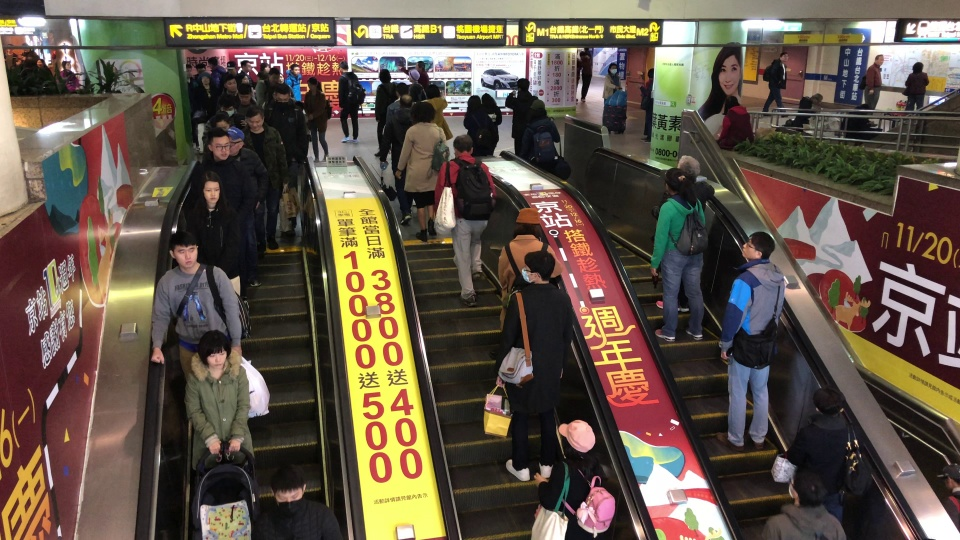person_head: (269, 461, 306, 517), (787, 464, 830, 509), (557, 417, 596, 465), (197, 330, 231, 370), (168, 230, 199, 268), (521, 250, 555, 284), (740, 230, 775, 261), (511, 207, 542, 240), (812, 386, 844, 417), (206, 126, 231, 161), (197, 171, 223, 204), (663, 167, 687, 196), (676, 154, 700, 182), (225, 125, 245, 158), (244, 104, 265, 132), (409, 101, 435, 123), (452, 134, 474, 159), (212, 109, 231, 133), (216, 95, 236, 117), (271, 84, 291, 105), (527, 98, 547, 119), (721, 95, 741, 116), (222, 75, 238, 95), (465, 94, 481, 112), (394, 82, 410, 98), (425, 83, 441, 99), (515, 77, 531, 93), (480, 93, 497, 106), (377, 68, 391, 83), (407, 68, 421, 83), (910, 61, 924, 75), (225, 61, 238, 76), (271, 71, 286, 84), (306, 76, 319, 91), (288, 63, 301, 77), (194, 61, 206, 76), (199, 71, 211, 86), (240, 59, 252, 74), (237, 72, 250, 85), (810, 92, 823, 105), (338, 60, 350, 73), (207, 56, 218, 70), (255, 71, 270, 81), (607, 62, 618, 75), (873, 54, 884, 67), (184, 64, 193, 79), (61, 59, 72, 71), (414, 60, 425, 72), (259, 61, 270, 72), (21, 42, 31, 52), (35, 57, 45, 67), (778, 52, 788, 62), (577, 50, 588, 59), (647, 68, 655, 79), (14, 57, 23, 66), (6, 42, 14, 52)
person_vbox: (495, 250, 573, 483), (715, 230, 788, 454), (148, 230, 242, 385), (488, 206, 564, 363), (189, 126, 257, 300), (432, 133, 497, 307), (181, 329, 256, 472), (648, 166, 707, 343), (786, 385, 858, 529), (651, 153, 715, 313), (533, 417, 607, 540), (250, 460, 345, 540), (395, 100, 447, 243), (225, 125, 270, 288), (184, 169, 241, 297), (240, 102, 288, 253), (760, 464, 847, 540), (266, 85, 309, 238), (379, 82, 421, 227), (519, 98, 560, 176), (505, 77, 538, 159), (201, 95, 246, 153), (302, 76, 332, 162), (372, 67, 399, 158), (336, 59, 365, 143), (193, 72, 220, 156), (462, 94, 498, 157), (759, 51, 792, 118), (714, 94, 753, 150), (838, 102, 884, 143), (424, 83, 454, 142), (863, 52, 885, 128), (901, 59, 930, 115), (788, 91, 824, 131), (639, 68, 655, 143), (184, 63, 197, 147), (253, 72, 272, 122), (216, 76, 241, 112), (54, 59, 82, 91), (397, 60, 431, 86), (601, 62, 621, 106), (478, 93, 502, 129), (577, 49, 593, 102), (283, 62, 303, 103), (406, 68, 427, 102), (206, 55, 227, 88), (20, 42, 40, 67), (34, 57, 53, 83), (238, 58, 253, 87), (3, 42, 18, 70)
